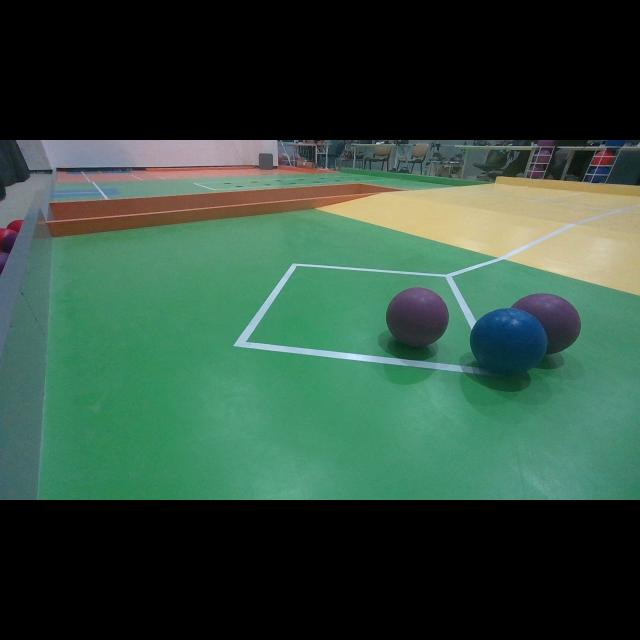B: (470, 308, 548, 376)
P: (510, 292, 580, 356), (386, 287, 449, 347)
